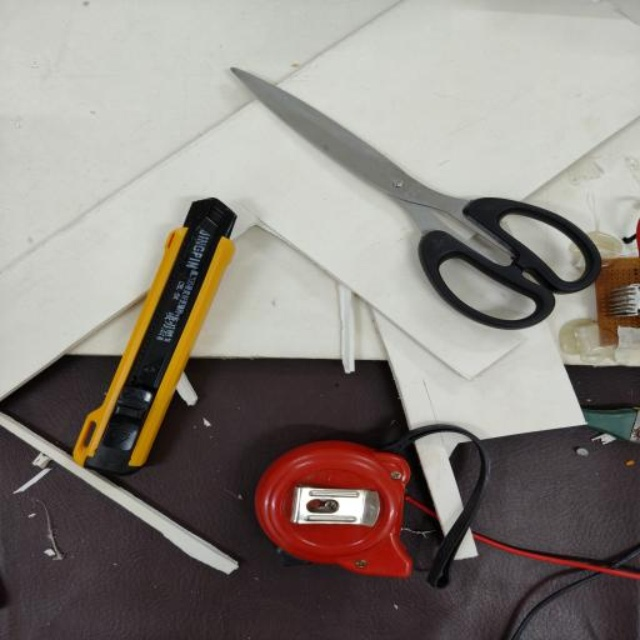scissor: (226, 61, 603, 332)
